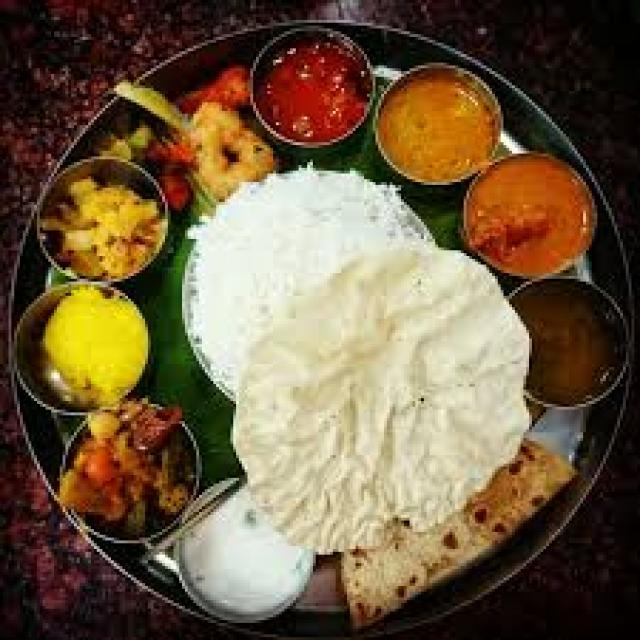curd: (170, 488, 321, 625)
dal: (370, 61, 515, 186), (31, 278, 159, 413)
rice: (183, 156, 363, 386)
roti: (347, 434, 575, 594)
sambar-rasam: (33, 284, 159, 405)
sweet: (185, 111, 276, 188)
veg-fry: (50, 398, 204, 543)
